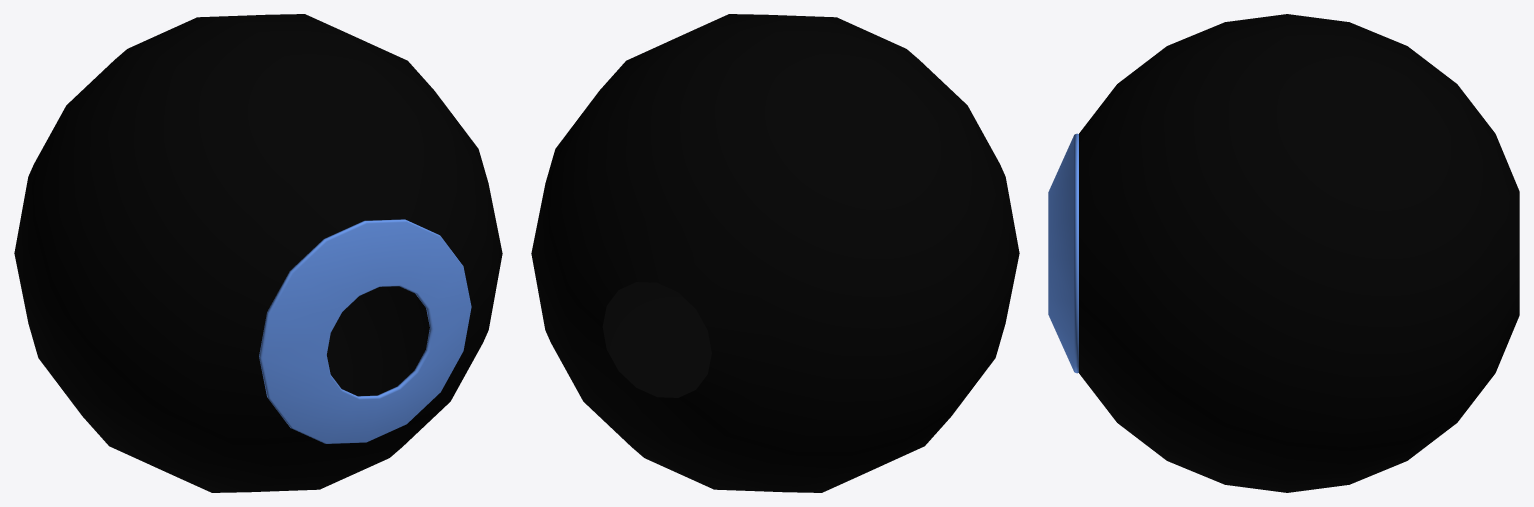
3 renders of one model, left to right at view 1: azimuth 30°, elevation 25°; view 2: azimuth 150°, elevation 25°; view 3: azimuth 270°, elevation 25°, orthographic.
Visible parts, largest first — view 1: sphere, Group2; view 2: sphere; view 3: sphere, Group2.
Boxes of the visible parts, x1,y1,x2,y2 form: sphere: (14, 14, 502, 492); Group2: (259, 219, 471, 443); sphere: (531, 14, 1019, 492); sphere: (1079, 14, 1519, 492); Group2: (1048, 133, 1078, 373).
Size of the model in its own units: 203 by 200 by 203.
